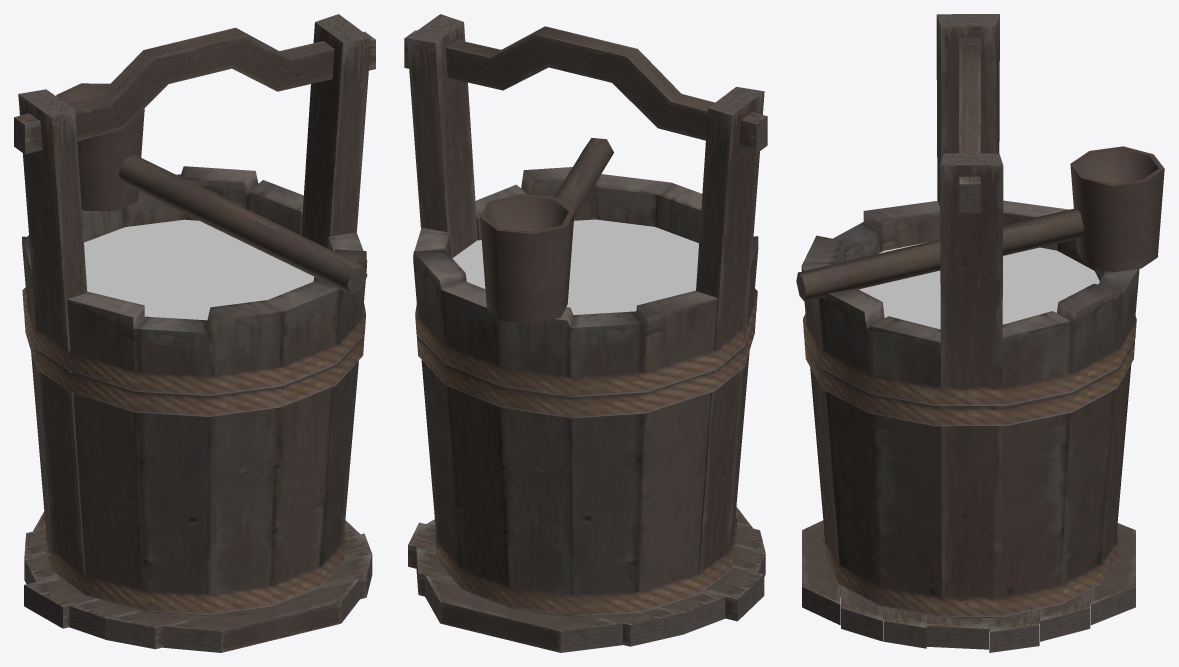
Rendered from Homeworld_Exterior_Dq_Decoration_Bucket_01_Vo.fbx.
3 views of the same model, side by side, from view 1: azimuth 30°, elevation 25°; view 2: azimuth 150°, elevation 25°; view 3: azimuth 270°, elevation 25° (orthographic). The views are drawn at different scales.
Parts seen in each view (by area): view 1: Area_Dq_Prop_MS_Bucket_01_Vo; view 2: Area_Dq_Prop_MS_Bucket_01_Vo; view 3: Area_Dq_Prop_MS_Bucket_01_Vo.
Part boxes in pixels (<box>): Area_Dq_Prop_MS_Bucket_01_Vo: <box>14,14,375,652</box>; Area_Dq_Prop_MS_Bucket_01_Vo: <box>404,14,767,652</box>; Area_Dq_Prop_MS_Bucket_01_Vo: <box>796,14,1164,652</box>.
Size of the model in its own units: 0.5385 by 0.7793 by 0.5082.
